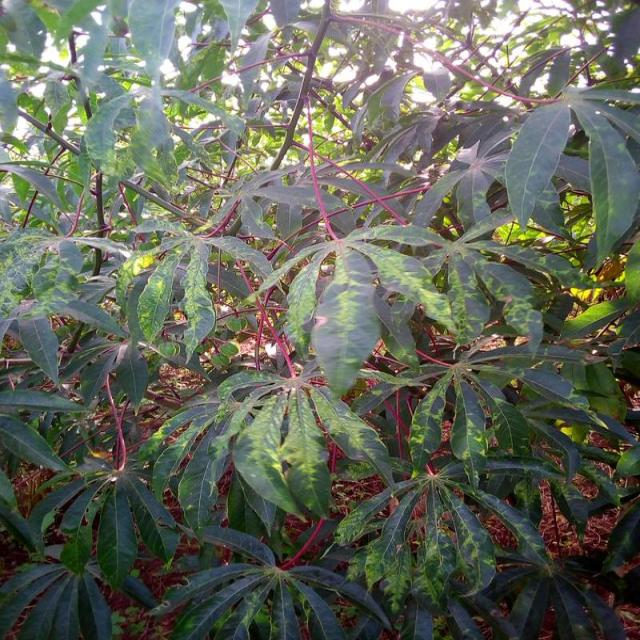cassava leaf: (0, 1, 638, 638), (504, 99, 570, 234)
